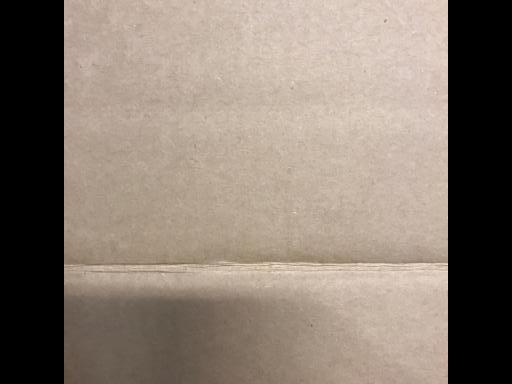cardboard: (72, 5, 445, 383)
